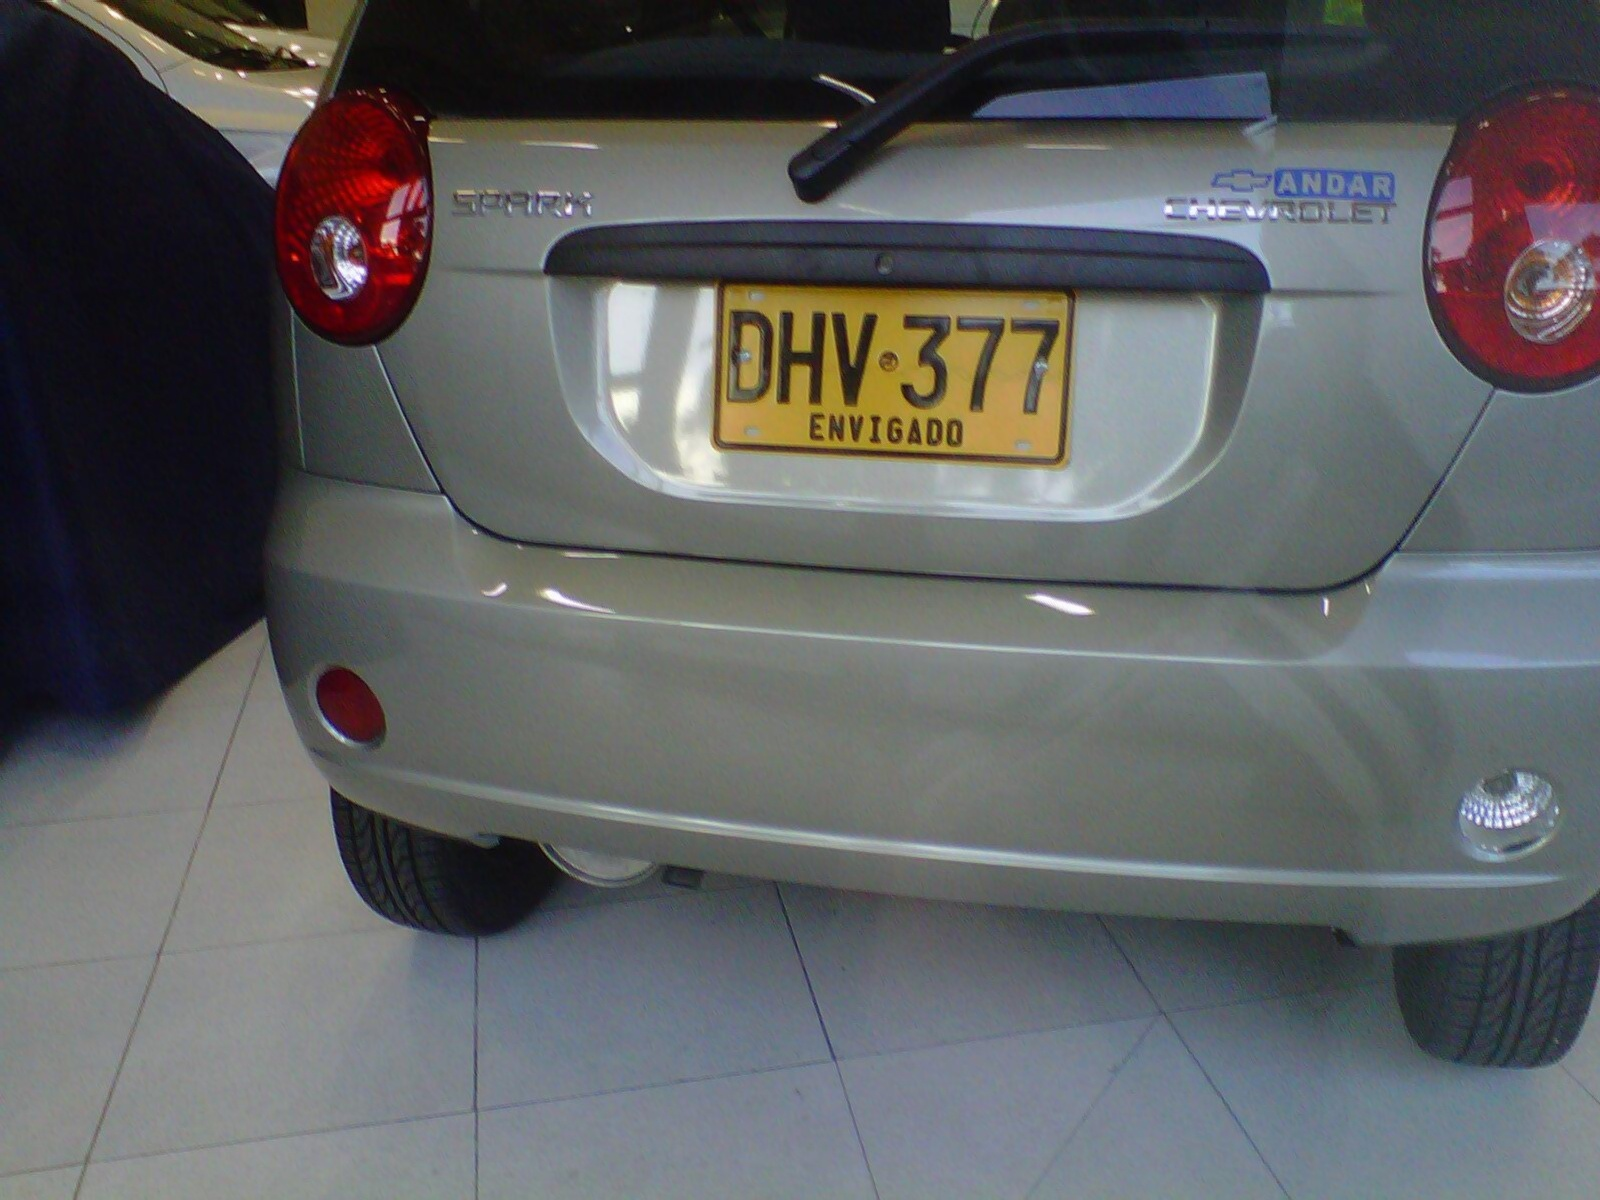placas: (705, 270, 1083, 471)
